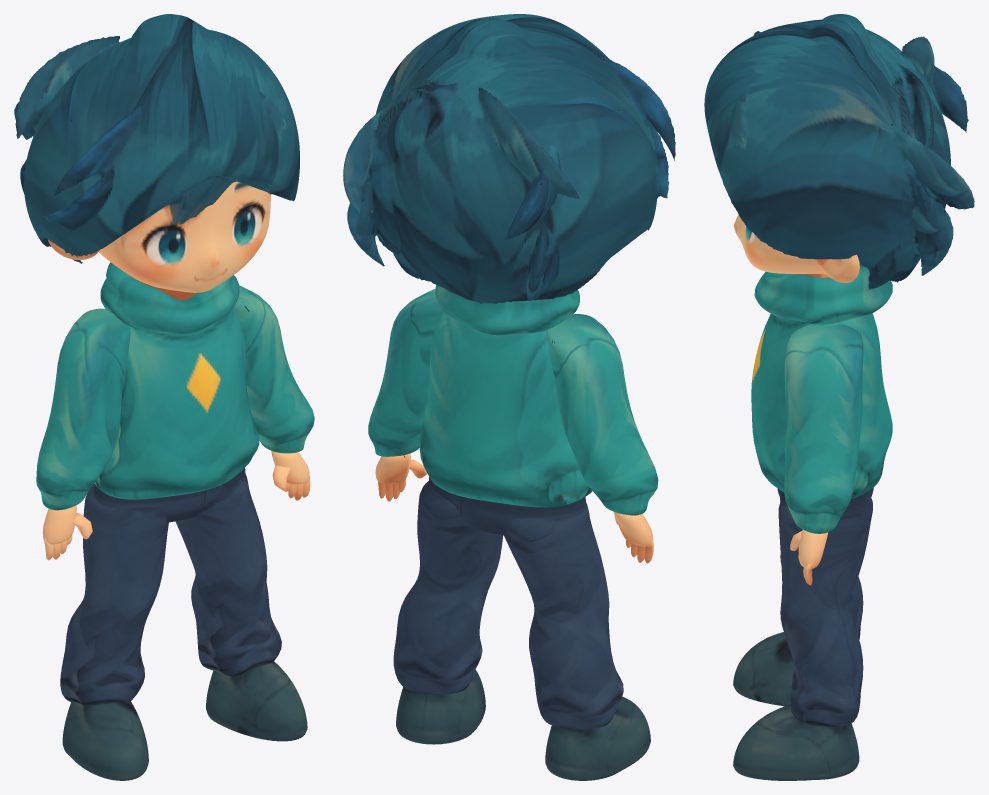
Rendered from meadow-hero.glb.
3 views of the same model, side by side, from view 1: azimuth 30°, elevation 25°; view 2: azimuth 150°, elevation 25°; view 3: azimuth 270°, elevation 25° (orthographic). The views are drawn at different scales.
Parts seen in each view (by area): view 1: painted-body, painted-head; view 2: painted-body, painted-head; view 3: painted-head, painted-body.
Boxes of the visible parts, left/top/right/bottom form: painted-body: left=36, top=262, right=314, bottom=780; painted-head: left=14, top=14, right=299, bottom=300; painted-body: left=368, top=285, right=658, bottom=780; painted-head: left=343, top=14, right=675, bottom=303; painted-head: left=704, top=14, right=974, bottom=289; painted-body: left=733, top=264, right=892, bottom=780.
Bounding box in the file's own units: 0.975 × 2.4 × 0.8185.
Materials: 2 (2 with a texture image).
